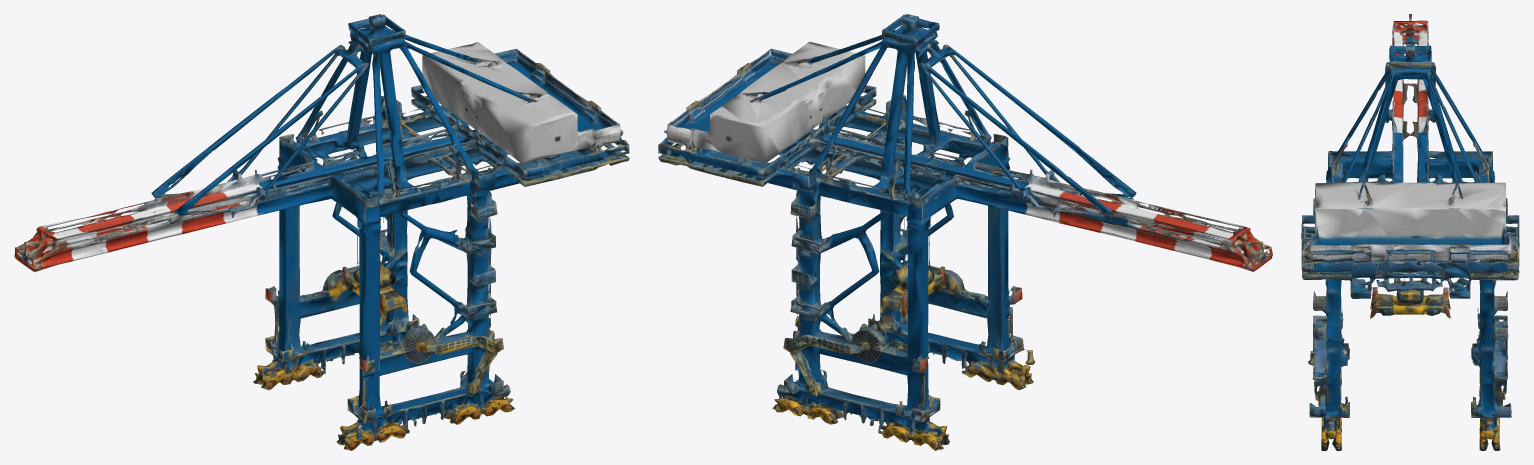
File: sts-crane.glb
The picture shows the model from 3 angles, left to right: view 1: azimuth 30°, elevation 25°; view 2: azimuth 150°, elevation 25°; view 3: azimuth 270°, elevation 25°; orthographic projection. The views are drawn at different scales.
Bounding box in the file's own units: 1.9 × 1.26 × 0.683.
1 material, 1 textured.
